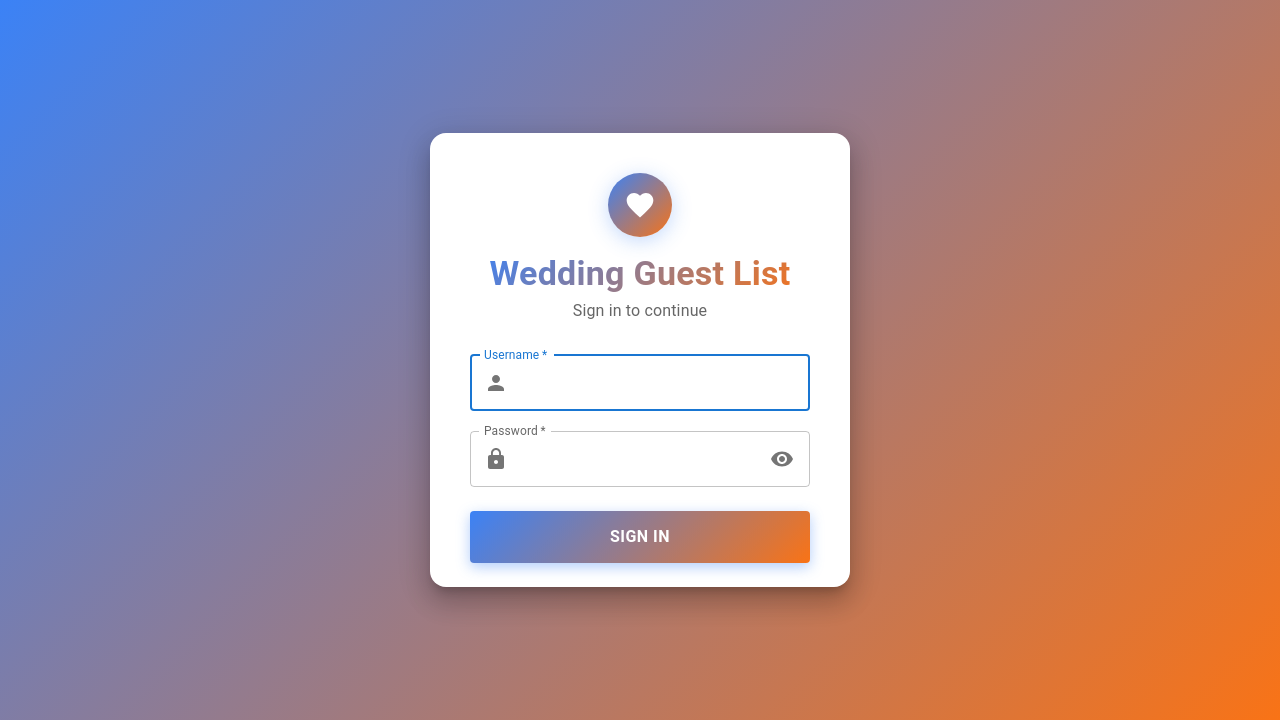
Test: Login › shows error message when login fails
Type "testuser" into the field with id "username".
click(663, 383); type("testuser")  # box top-left (516, 355), bottom-right (810, 411)
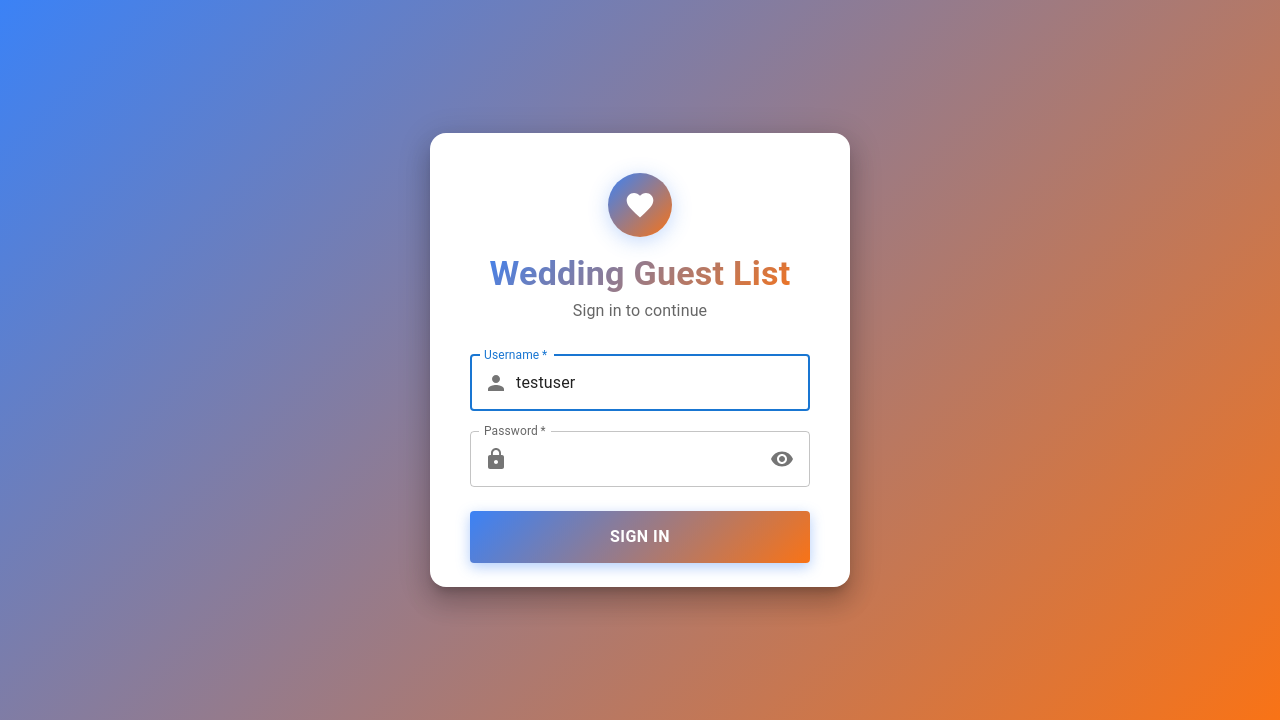
Type "wrongpass" into the password field labelled "Password *".
click(636, 459); type("wrongpass")  # box top-left (516, 431), bottom-right (757, 487)
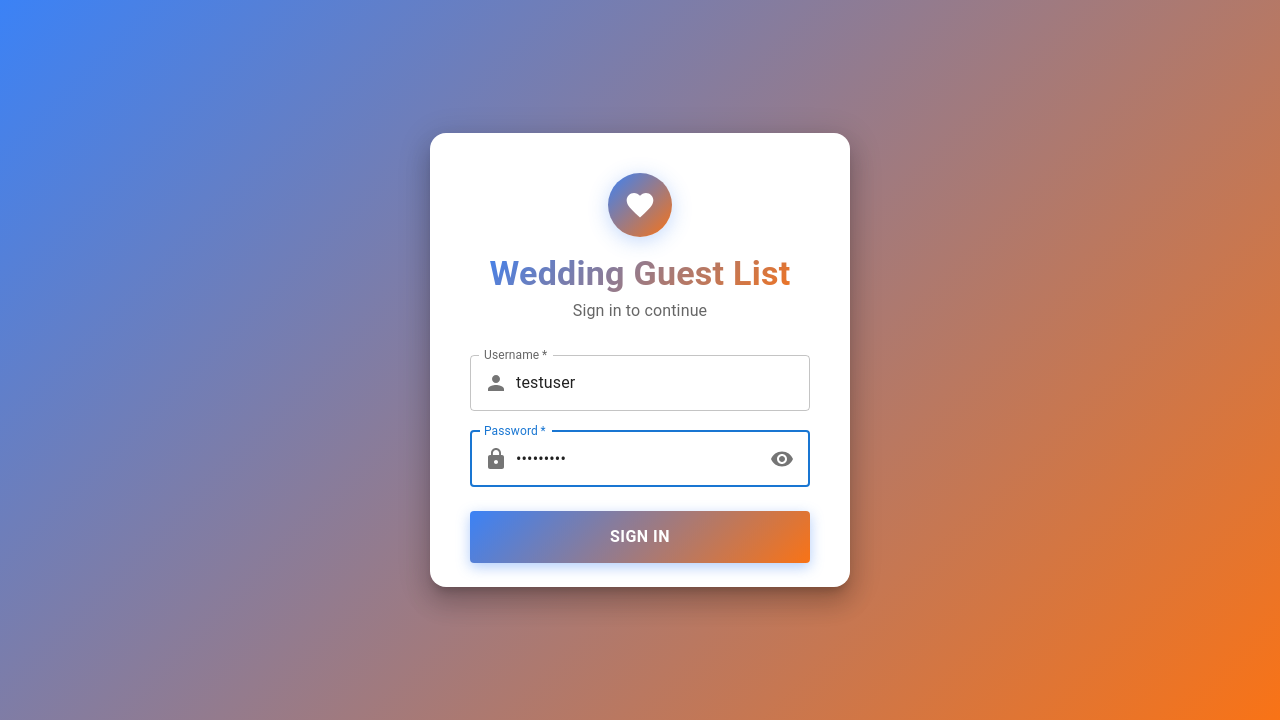
Click the button "Sign In".
click(640, 537)  # box top-left (470, 511), bottom-right (810, 563)
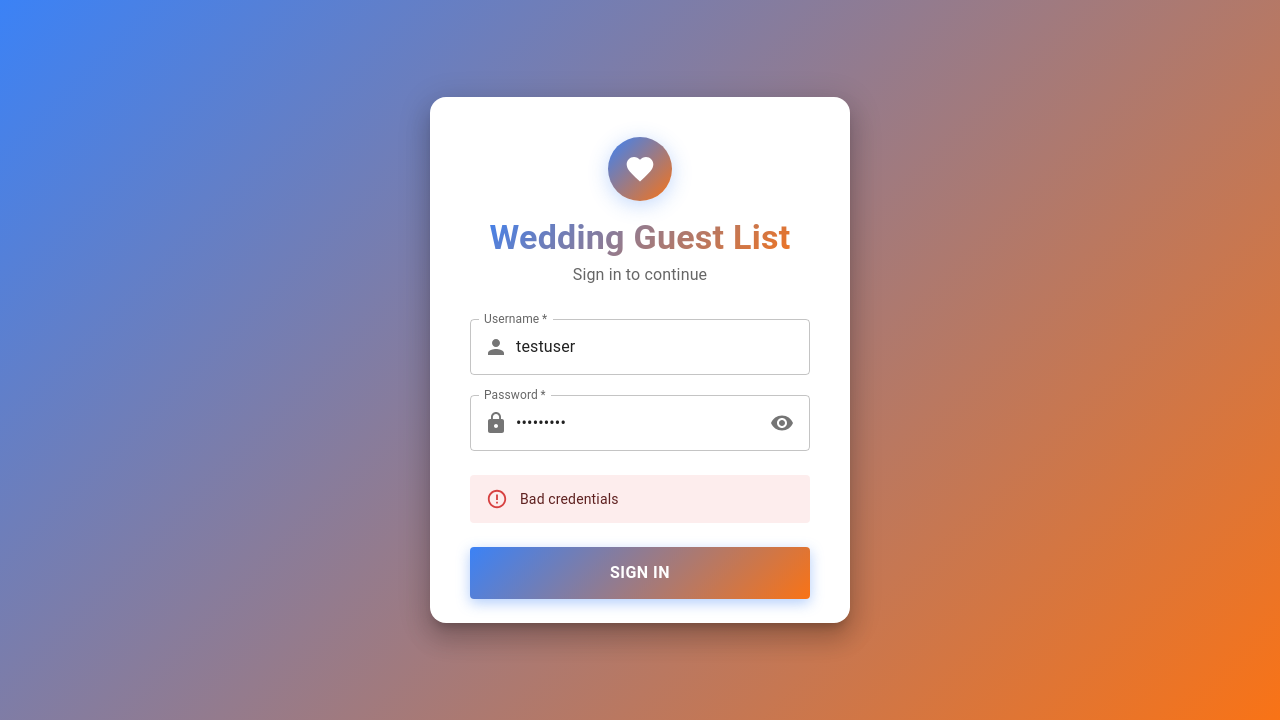
Expected: the text "Bad credentials" is shown, top-left (520, 491), bottom-right (619, 507)
